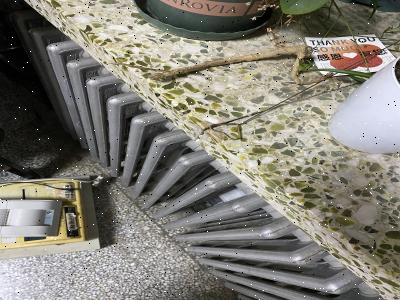Root: (149, 46, 319, 85)
